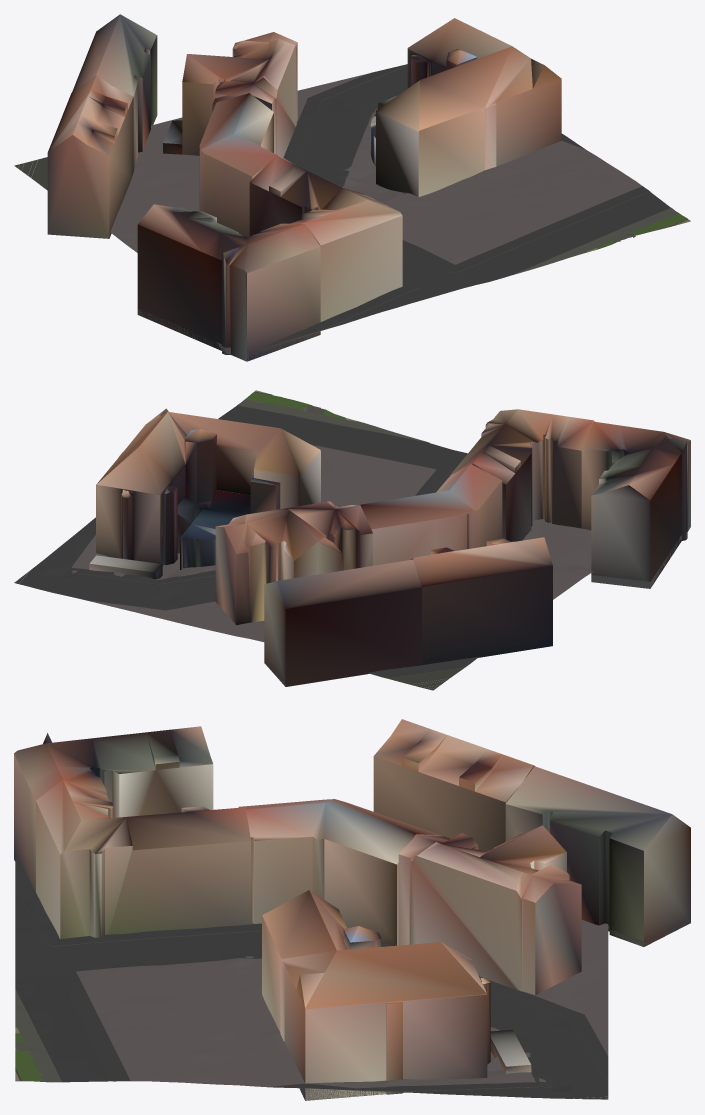
3 views of the same model, one above another, from view 1: azimuth 30°, elevation 25°; view 2: azimuth 150°, elevation 25°; view 3: azimuth 270°, elevation 25° (orthographic). The views are drawn at different scales.
Visible parts, largest first — view 1: c_m14_m04; view 2: c_m14_m04; view 3: c_m14_m04.
Part boxes in pixels (<box>): c_m14_m04: <box>14,14,690,361</box>; c_m14_m04: <box>14,390,690,690</box>; c_m14_m04: <box>14,719,690,1100</box>.
Bounding box in the file's own units: 143 × 33.93 × 146.
